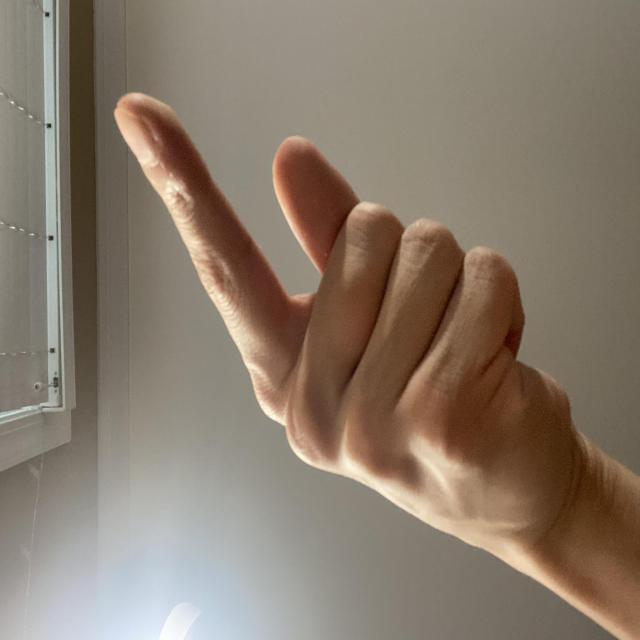G: (37, 144, 427, 640)
